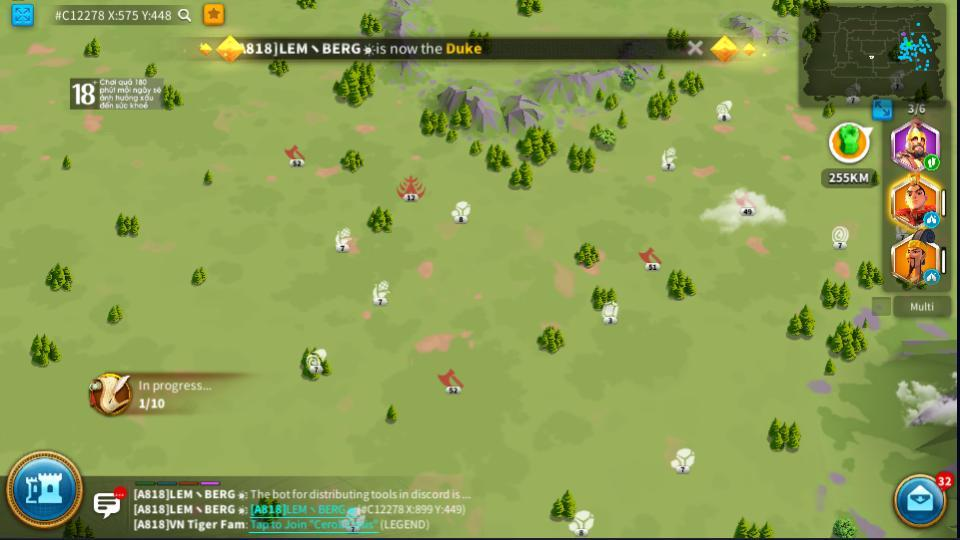gem-z-out: (829, 224, 851, 247)
march_idle: (923, 213, 938, 225), (923, 272, 939, 283)
march_marching: (923, 156, 938, 169)
